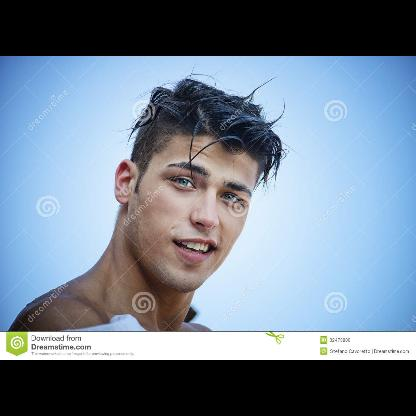Male: (115, 122, 261, 292)
